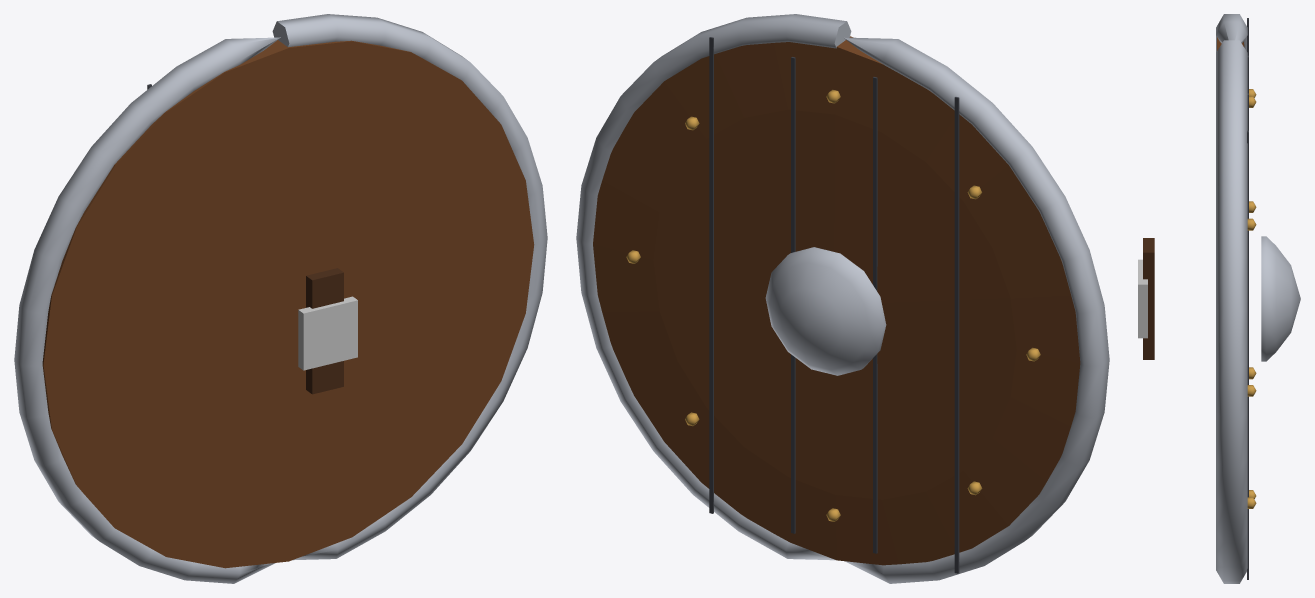
Rendered from shield_great.glb.
3 renders of one model, left to right at view 1: azimuth 30°, elevation 25°; view 2: azimuth 150°, elevation 25°; view 3: azimuth 270°, elevation 25°, orthographic. The views are drawn at different scales.
Parts seen in each view (by area): view 1: Shield_Great_Wood, Shield_Great_Steel, Shield_Great_Trim, Shield_Great_Leather; view 2: Shield_Great_Wood, Shield_Great_Steel, Shield_Great_Darksteel, Shield_Great_Brass; view 3: Shield_Great_Steel, Shield_Great_Leather, Shield_Great_Darksteel, Shield_Great_Trim, Shield_Great_Brass.
Part boxes in pixels (x1,y1,x2,y2): Shield_Great_Wood: [42, 40, 534, 568]; Shield_Great_Steel: [14, 14, 547, 583]; Shield_Great_Trim: [298, 296, 357, 370]; Shield_Great_Leather: [306, 268, 343, 394]; Shield_Great_Wood: [593, 36, 1080, 565]; Shield_Great_Steel: [576, 14, 1109, 583]; Shield_Great_Darksteel: [709, 37, 959, 573]; Shield_Great_Brass: [626, 89, 1040, 521]; Shield_Great_Steel: [1216, 14, 1300, 583]; Shield_Great_Leather: [1143, 238, 1154, 359]; Shield_Great_Darksteel: [1247, 18, 1248, 579]; Shield_Great_Trim: [1138, 259, 1147, 338]; Shield_Great_Brass: [1247, 89, 1256, 508].
Bounding box in the file's own units: 0.5777 × 0.5722 × 0.165.
